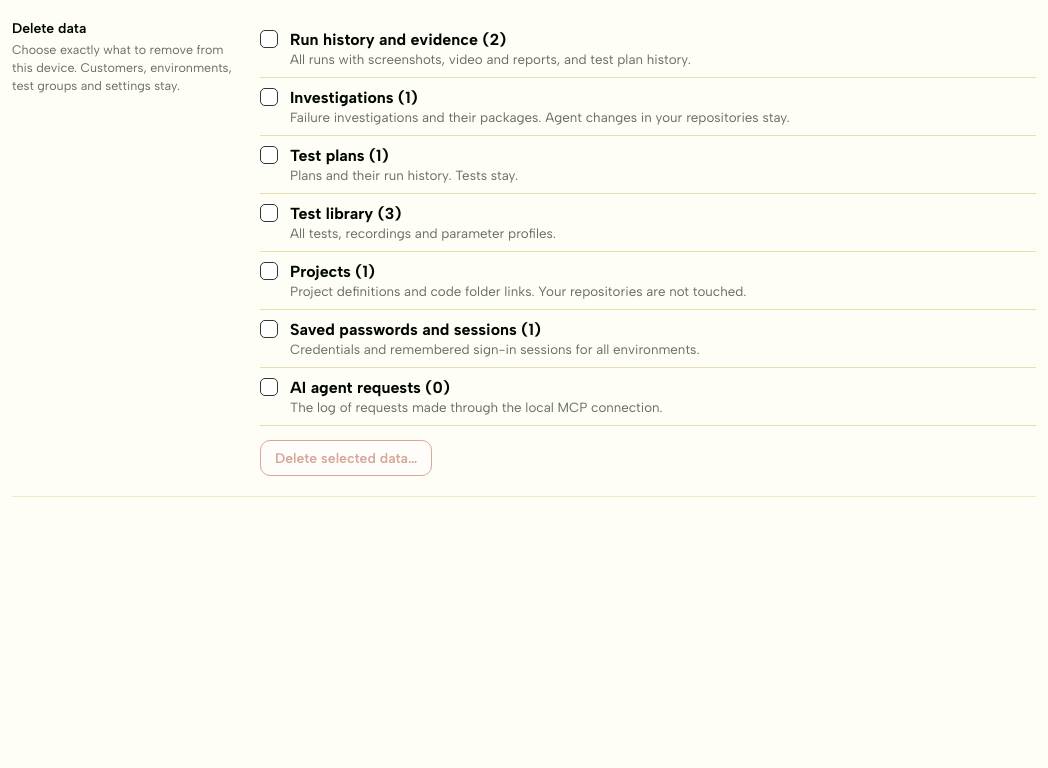
Scenario: DataDeletionSection › shows an error from the main process and stays usable
Step 1. Click the checkbox labelled "Investigations" → click(269, 97), box [260, 88, 278, 106]
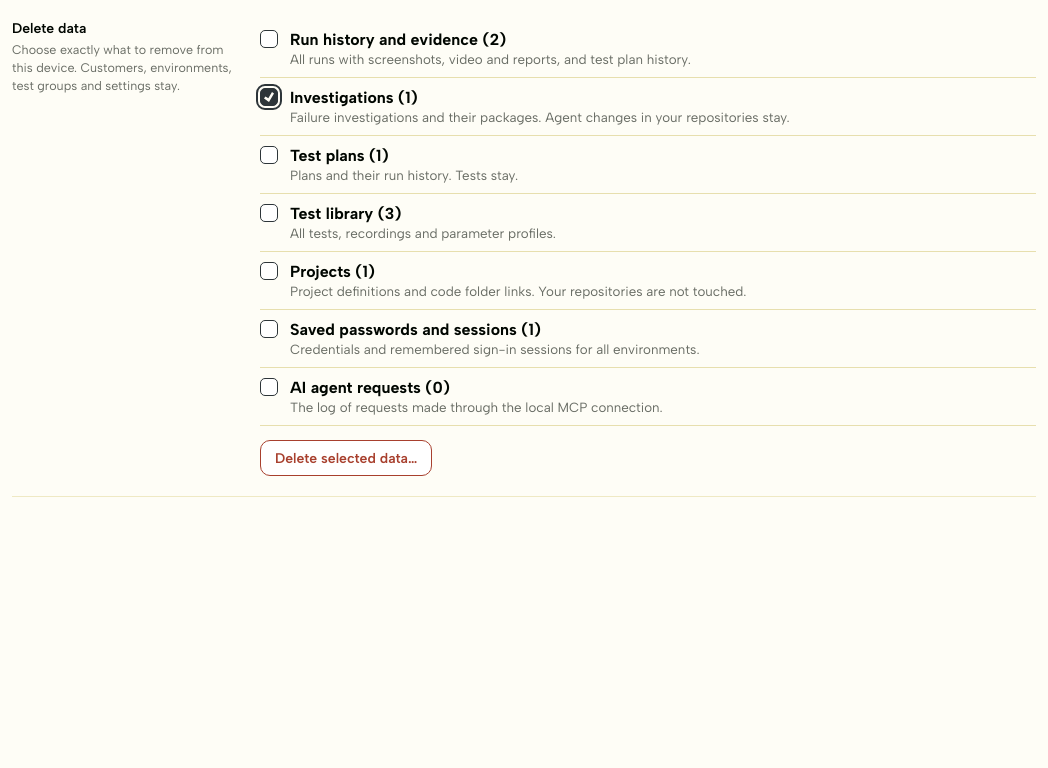
Step 2. Click the button "Delete selected data…" → click(346, 458), box [260, 440, 432, 476]
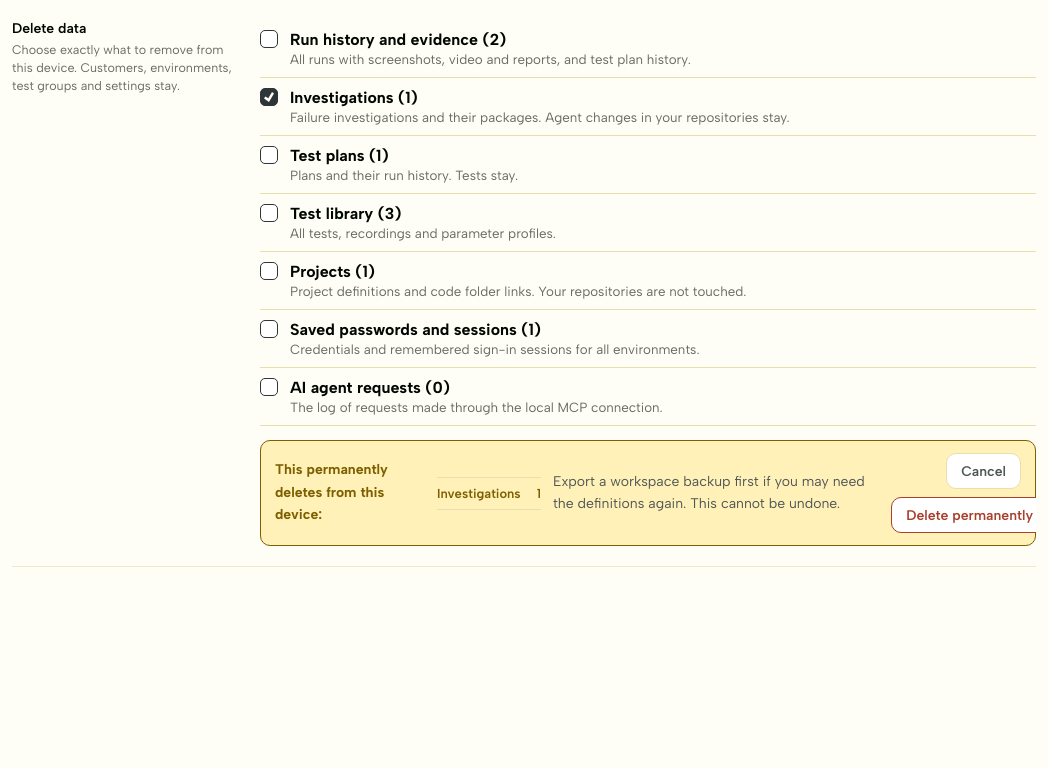
Step 3. Click the button "Delete permanently" → click(964, 515), box [891, 497, 1036, 533]
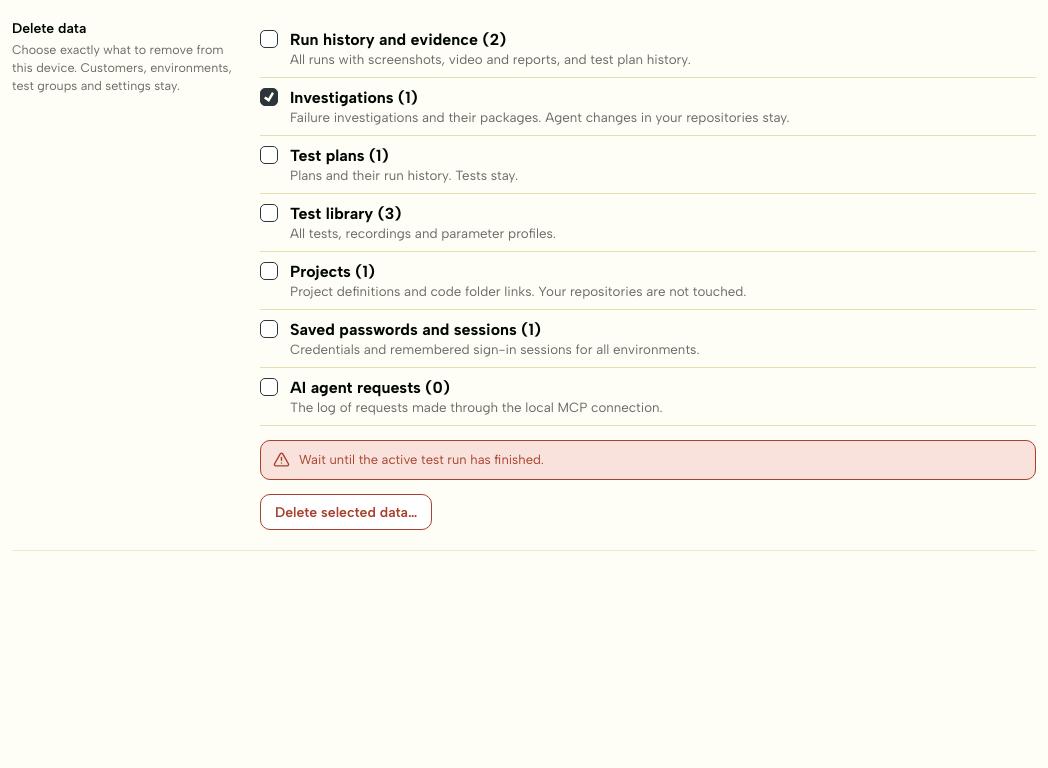
Check: the text "Wait until the active test run has finished." is shown, box [299, 451, 544, 469]
Check: the button "Delete selected data…" is enabled, box [260, 494, 432, 530]
